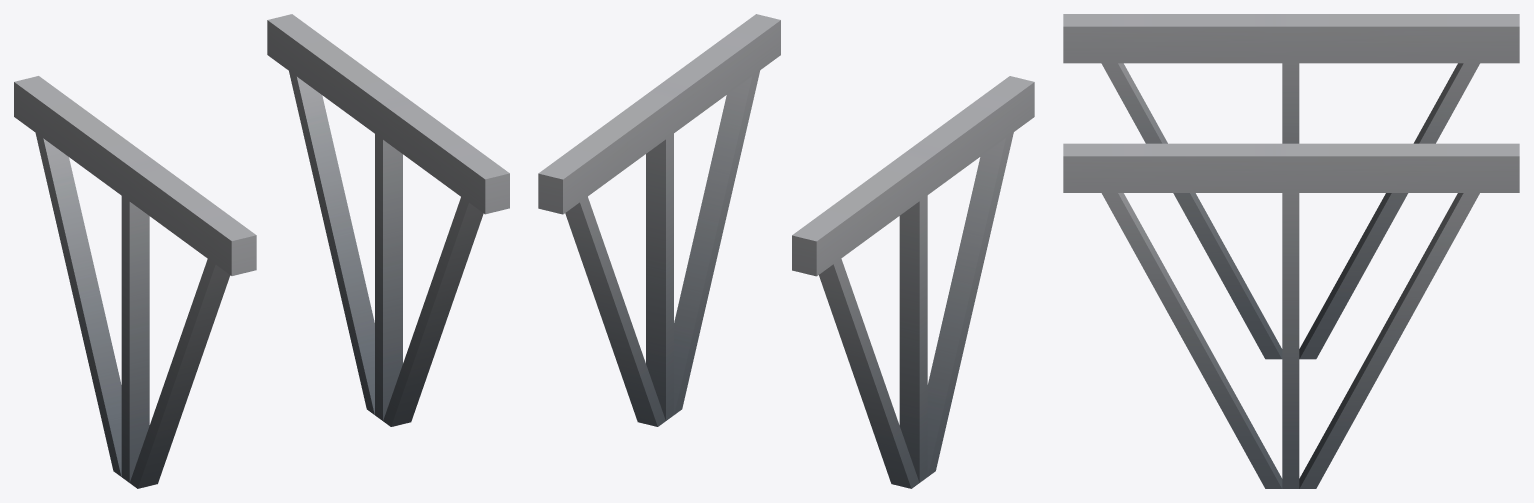
File: puente_centro.fbx
3 views of the same model, side by side, from view 1: azimuth 30°, elevation 25°; view 2: azimuth 150°, elevation 25°; view 3: azimuth 270°, elevation 25° (orthographic). The views are drawn at different scales.
Parts seen in each view (by area): view 1: Puente_centro; view 2: Puente_centro; view 3: Puente_centro.
Part boxes in pixels (x1,y1,x2,y2): Puente_centro: (14,14,509,488); Puente_centro: (538,14,1034,488); Puente_centro: (1063,14,1519,488).
Bounding box in the file's own units: 2260 × 2475 × 3064.
